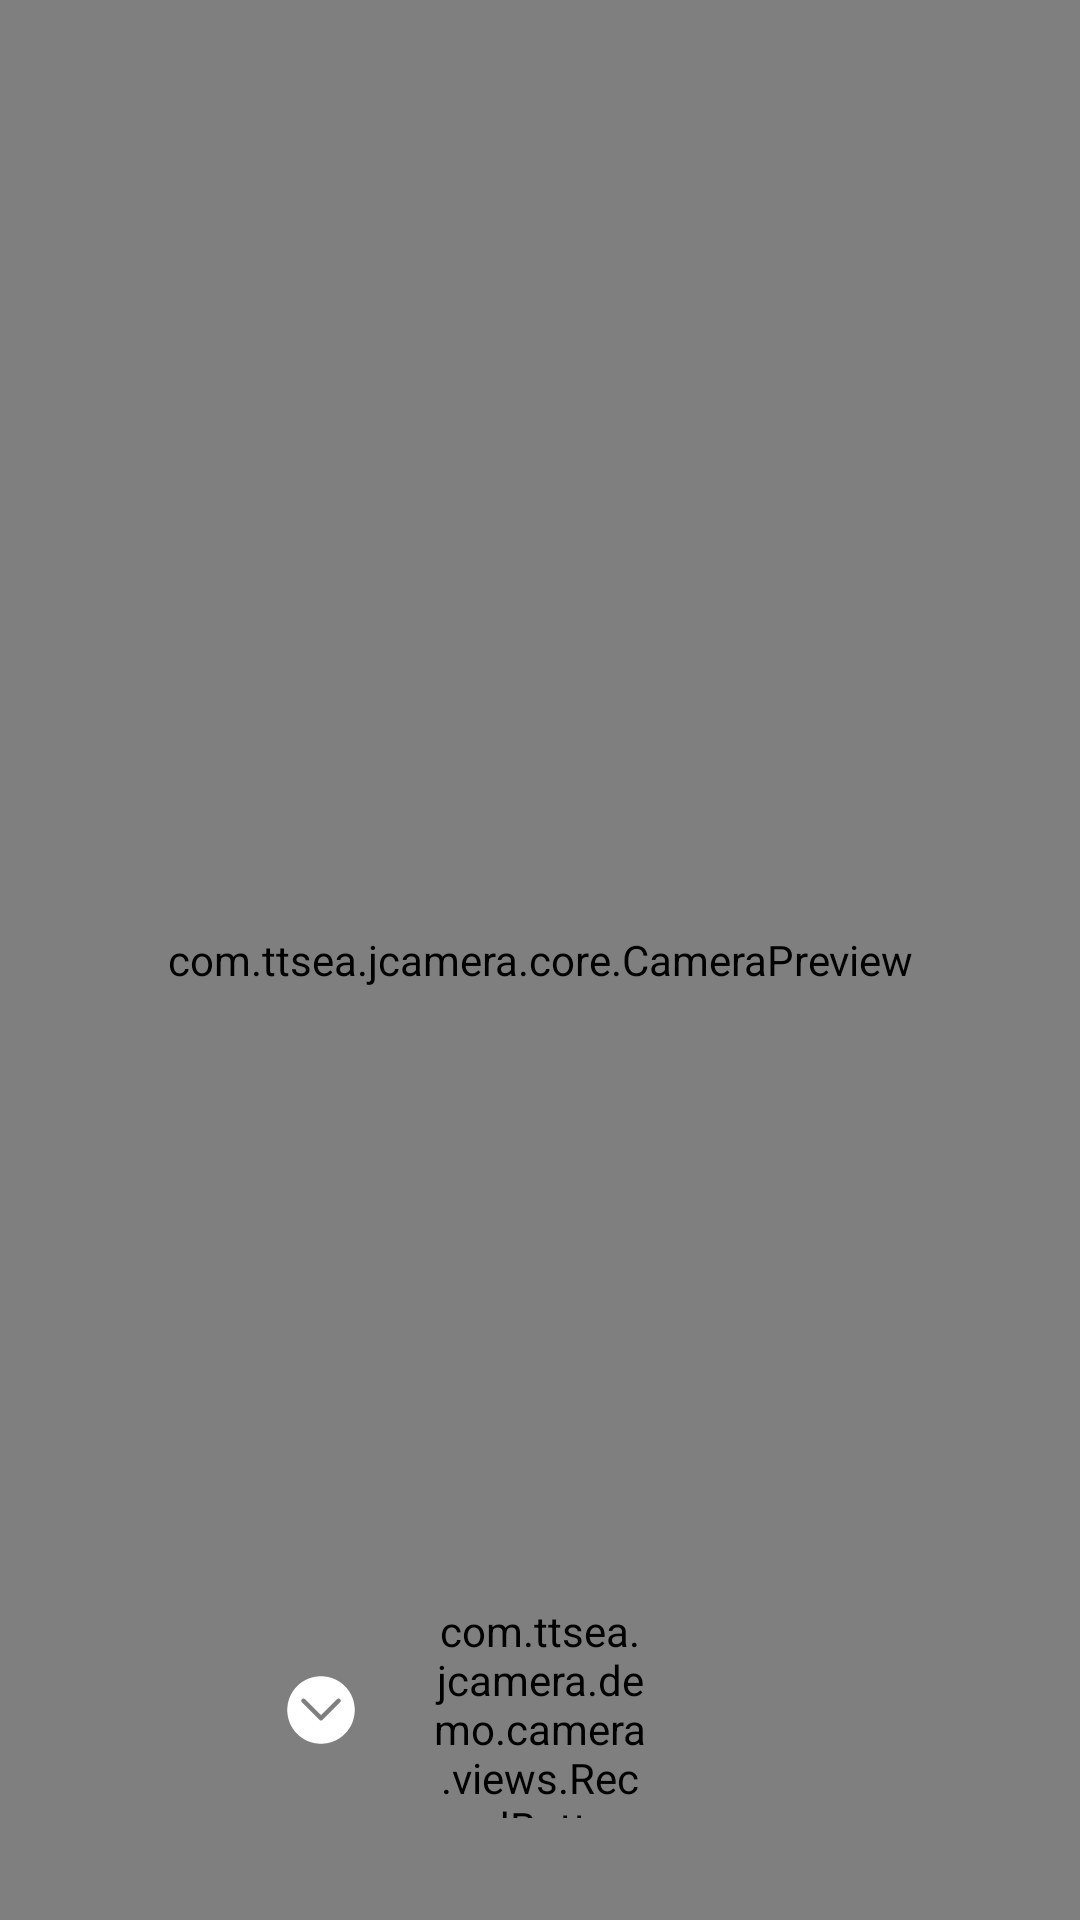

Point at icon controls on the screen. Image size 1080 × 1920, points as (x=x, y=y).
arrow down: (x=321, y=1710)
